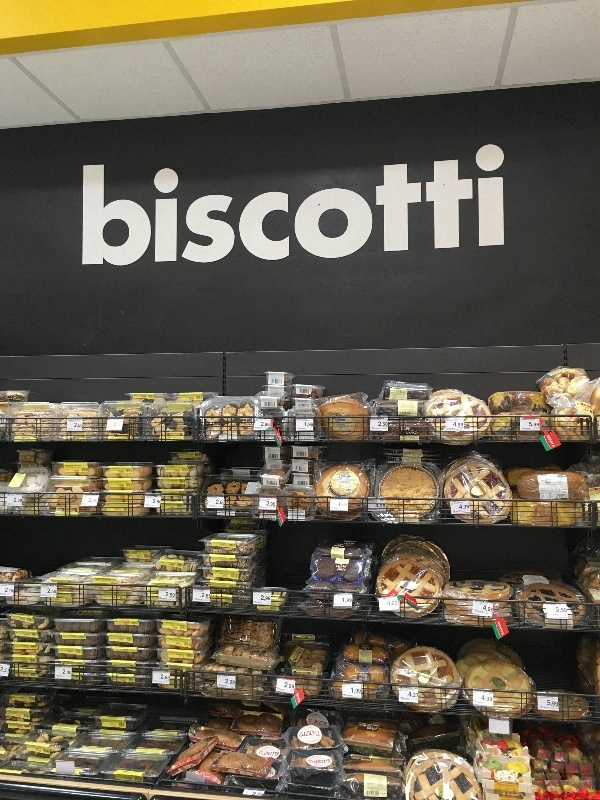text: (81, 143, 96, 271), (97, 143, 112, 271), (113, 143, 128, 271), (129, 143, 144, 271), (145, 143, 160, 271), (161, 143, 176, 271), (177, 143, 192, 271), (193, 143, 208, 271), (209, 143, 224, 271), (225, 143, 240, 271), (241, 143, 256, 271), (257, 143, 272, 271), (273, 143, 288, 271), (289, 143, 304, 271), (305, 143, 320, 271), (321, 143, 336, 271), (337, 143, 352, 271), (353, 143, 368, 271), (369, 143, 384, 271), (385, 143, 400, 271), (401, 143, 416, 271), (417, 143, 432, 271), (433, 143, 448, 271), (449, 143, 464, 271), (465, 143, 480, 271), (481, 143, 496, 271), (497, 143, 506, 271), (499, 621, 512, 637), (500, 622, 512, 637), (545, 489, 560, 499), (369, 783, 384, 792), (550, 435, 560, 448), (278, 432, 288, 444), (401, 403, 416, 411), (307, 736, 320, 745), (360, 650, 368, 664), (305, 731, 321, 738), (65, 466, 80, 473), (482, 695, 496, 702), (280, 512, 288, 524), (308, 718, 320, 726), (1, 667, 16, 673), (161, 675, 176, 681), (225, 679, 240, 685), (529, 422, 544, 428), (545, 480, 560, 486), (406, 597, 416, 606), (548, 700, 560, 707), (249, 483, 256, 495), (258, 751, 272, 757), (387, 601, 400, 607), (483, 606, 496, 612), (33, 748, 48, 753), (391, 393, 400, 401), (113, 481, 125, 487), (359, 673, 368, 681), (369, 723, 378, 731), (561, 489, 568, 499), (338, 472, 352, 477), (337, 565, 347, 572), (261, 595, 272, 601), (181, 395, 192, 401), (298, 693, 304, 704), (115, 422, 128, 427), (360, 723, 368, 731), (6, 588, 16, 594), (166, 592, 176, 598), (454, 422, 464, 428), (113, 470, 125, 475), (17, 697, 32, 701), (308, 759, 320, 764), (18, 617, 32, 621), (66, 650, 80, 654), (321, 718, 328, 726), (261, 422, 272, 427), (277, 687, 288, 692), (339, 503, 352, 507), (371, 427, 384, 431), (451, 502, 464, 506), (321, 759, 331, 764), (305, 422, 313, 428), (353, 688, 361, 694), (401, 393, 407, 401), (164, 480, 176, 484), (180, 454, 192, 458), (68, 635, 80, 639), (343, 598, 352, 603), (369, 509, 384, 512), (167, 467, 176, 472), (17, 503, 32, 506), (213, 543, 224, 547), (21, 645, 32, 649), (21, 659, 32, 663), (21, 673, 32, 677), (117, 638, 128, 642), (409, 692, 416, 698), (561, 607, 567, 614), (146, 504, 160, 507), (337, 543, 344, 549), (194, 599, 208, 602), (194, 590, 208, 593), (17, 712, 24, 718), (216, 500, 224, 505), (289, 682, 294, 690), (376, 504, 384, 509), (534, 427, 544, 431), (540, 489, 544, 499), (113, 496, 126, 499), (202, 593, 208, 599), (68, 428, 80, 431), (452, 511, 464, 514), (260, 506, 272, 509), (55, 599, 64, 603), (167, 563, 176, 567), (135, 555, 144, 559), (119, 679, 128, 683), (362, 644, 368, 650), (273, 751, 279, 757), (49, 589, 56, 594), (65, 670, 72, 675), (153, 499, 160, 504), (257, 792, 264, 797), (485, 613, 496, 616), (232, 520, 240, 524), (113, 508, 121, 512), (177, 654, 185, 658), (1, 593, 16, 595), (539, 480, 544, 486), (561, 480, 566, 486), (22, 633, 32, 636), (170, 625, 176, 630), (401, 698, 411, 701), (556, 607, 560, 614), (369, 650, 371, 664), (300, 731, 304, 738), (167, 505, 176, 508), (135, 395, 144, 398), (365, 783, 368, 792), (51, 595, 64, 597), (267, 501, 272, 506), (379, 422, 384, 427), (459, 505, 464, 510), (75, 423, 80, 428), (475, 609, 480, 614), (177, 641, 182, 646), (17, 498, 22, 503), (285, 682, 288, 690), (209, 505, 217, 508), (90, 499, 96, 503), (8, 503, 16, 506), (346, 542, 352, 546), (218, 584, 224, 588), (161, 597, 167, 601), (120, 664, 128, 667), (218, 684, 224, 688), (465, 505, 469, 510), (220, 573, 224, 578), (225, 573, 229, 578), (539, 706, 544, 710), (545, 706, 550, 710), (17, 725, 22, 729), (42, 594, 48, 597), (257, 427, 263, 430), (449, 428, 455, 431), (218, 505, 224, 508), (109, 481, 112, 487), (154, 680, 160, 683), (551, 708, 560, 710), (474, 701, 480, 704), (13, 712, 16, 718), (269, 770, 272, 776), (241, 520, 245, 524), (108, 508, 112, 512), (56, 675, 64, 677), (253, 792, 256, 797), (385, 422, 388, 427), (177, 467, 180, 472), (481, 609, 484, 614), (219, 558, 224, 561), (521, 428, 528, 430), (337, 604, 344, 606), (169, 599, 176, 601), (298, 428, 304, 430), (193, 395, 195, 401), (204, 599, 208, 602), (369, 644, 371, 650), (13, 725, 16, 729), (273, 501, 275, 506), (81, 423, 83, 428), (561, 476, 566, 478), (465, 511, 470, 513), (174, 641, 176, 646), (481, 701, 484, 704), (385, 783, 386, 792), (412, 413, 416, 415), (225, 543, 227, 547), (353, 542, 355, 546), (225, 584, 227, 588), (124, 622, 128, 624), (225, 684, 227, 688), (81, 466, 82, 473), (209, 593, 210, 599), (351, 688, 352, 694), (417, 692, 418, 698), (77, 429, 80, 431), (381, 428, 384, 430), (385, 428, 388, 430), (557, 476, 560, 478), (145, 395, 147, 398), (335, 543, 336, 549), (225, 558, 227, 561), (161, 680, 163, 683), (273, 770, 274, 776), (63, 670, 64, 675), (111, 470, 112, 475), (177, 625, 178, 630), (15, 498, 16, 503), (207, 500, 208, 504), (529, 428, 531, 430), (462, 511, 464, 513), (177, 480, 178, 484), (193, 454, 194, 458), (159, 597, 160, 601), (255, 427, 256, 430), (447, 428, 448, 431), (269, 508, 272, 509), (209, 599, 210, 602), (81, 429, 82, 431), (305, 428, 306, 430), (273, 508, 275, 509), (129, 622, 130, 624)
